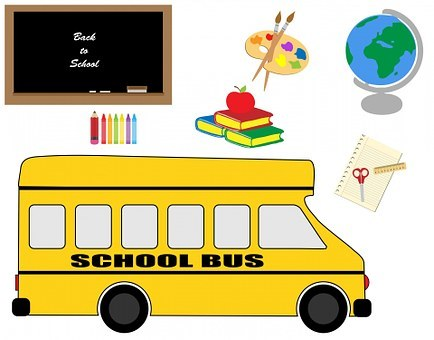bus: (8, 156, 379, 327)
